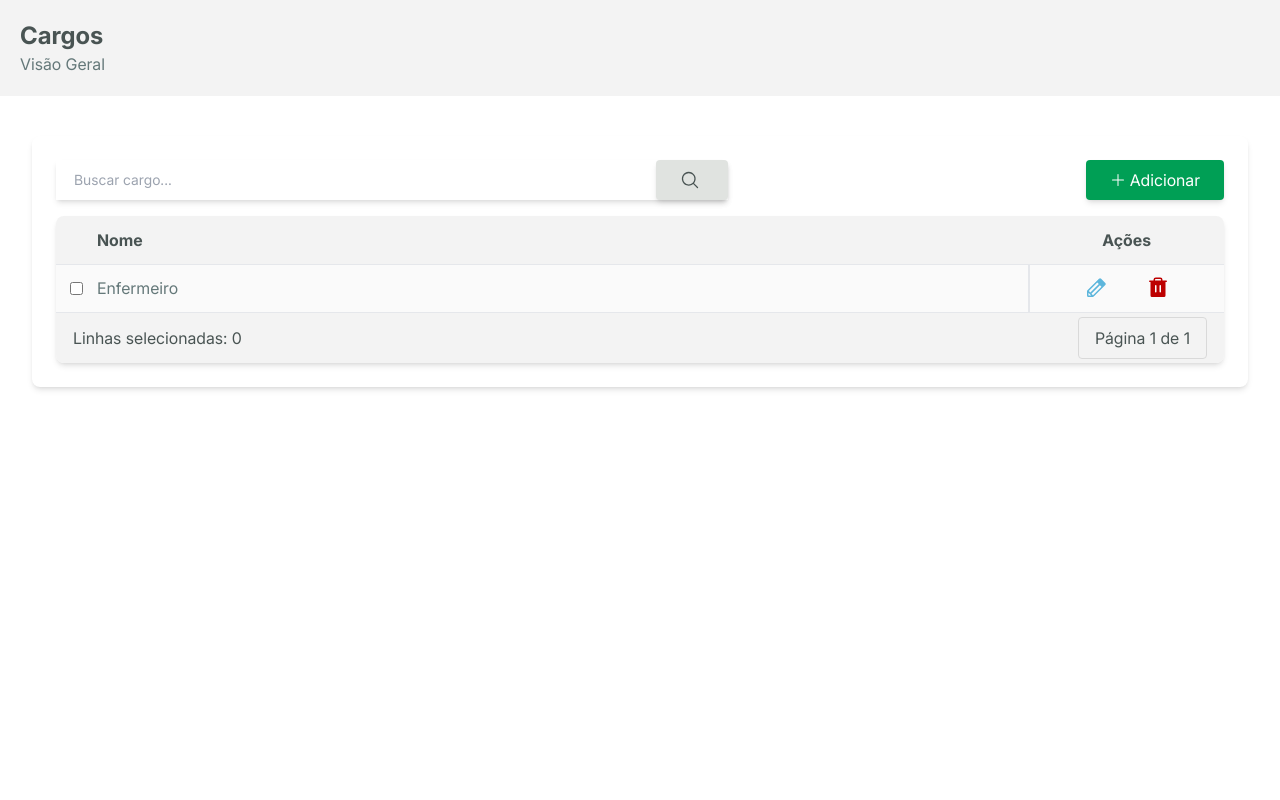
Test: páginas CRUD assistenciais › edits a listed position through its public form
Expected: the text "Enfermeiro" is shown, top-left (96, 264), bottom-right (1029, 312)
Click the button titled "Editar" at (1096, 288), box top-left (1084, 276), bottom-right (1108, 300)
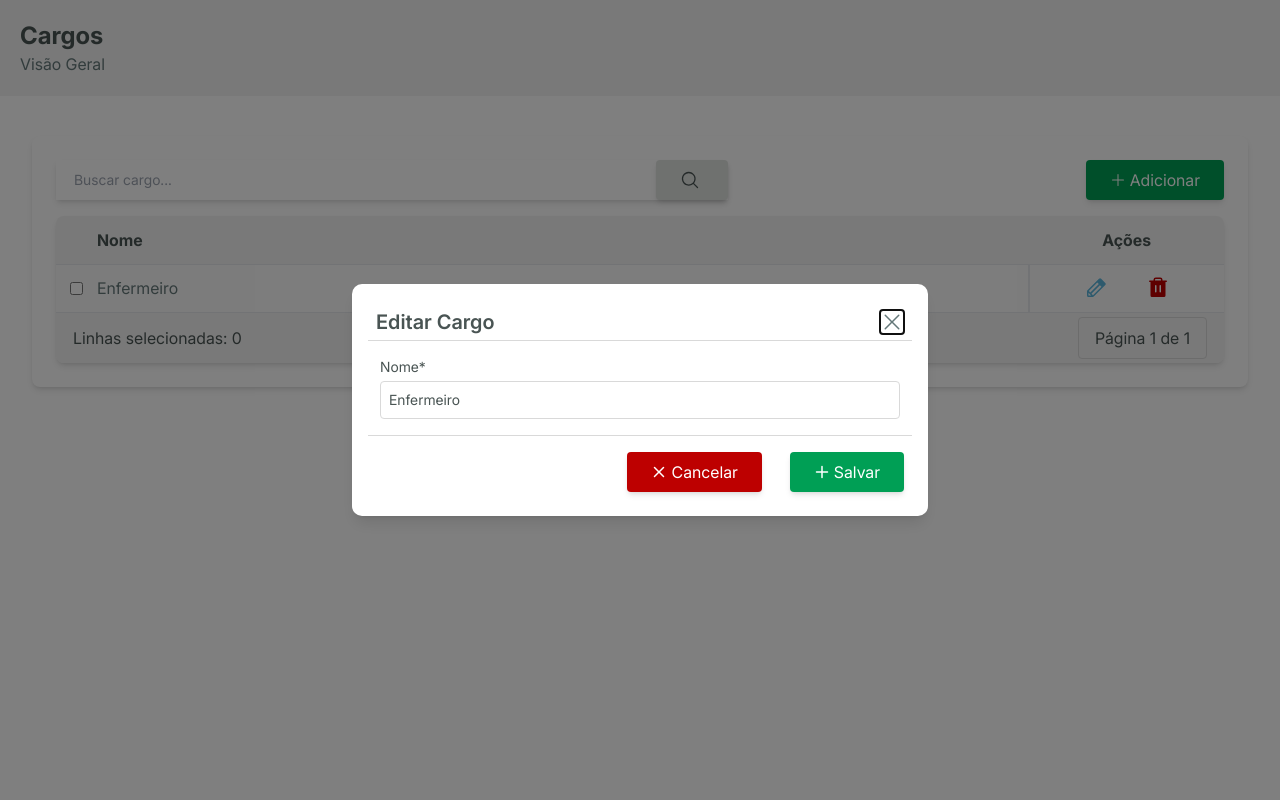
Replace the text in the field named "name" with "Enfermeira" at (640, 400), box top-left (380, 381), bottom-right (900, 419)
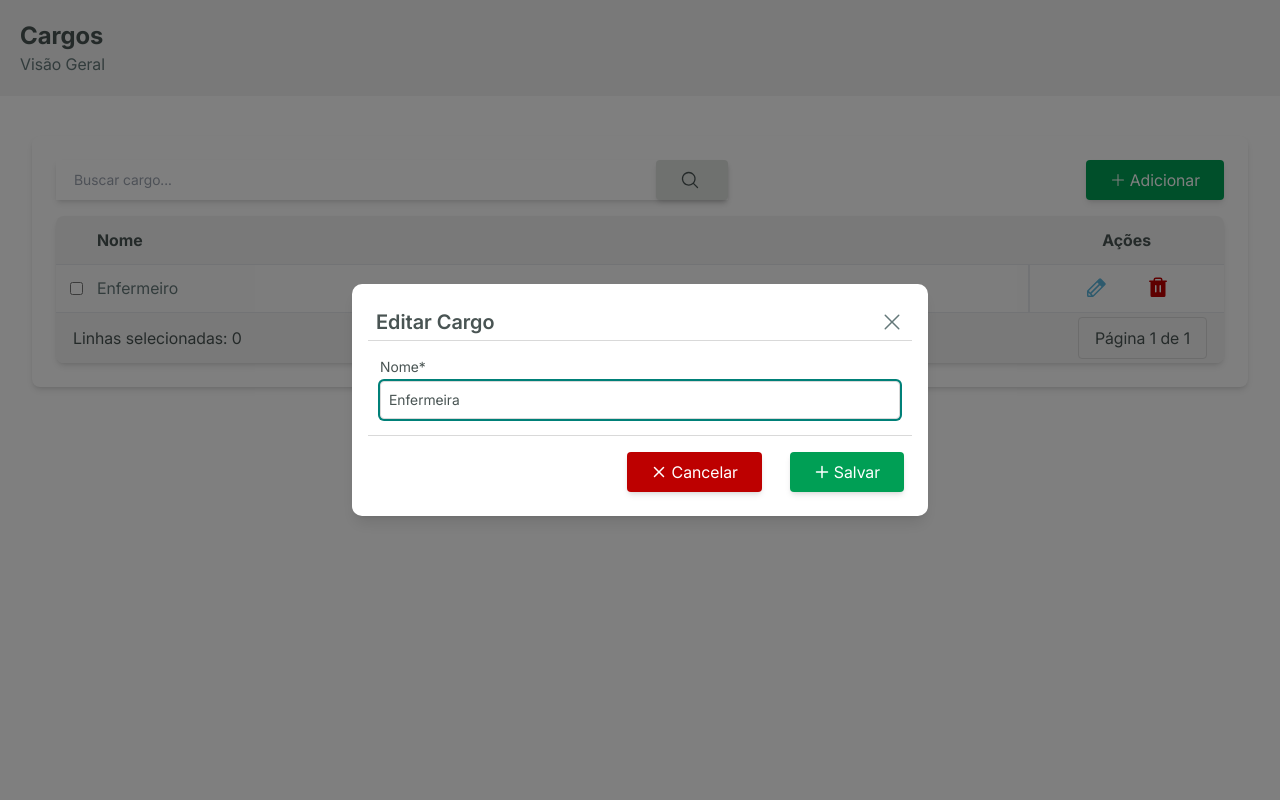
Click the button "Salvar" at (847, 472), box top-left (790, 452), bottom-right (904, 492)
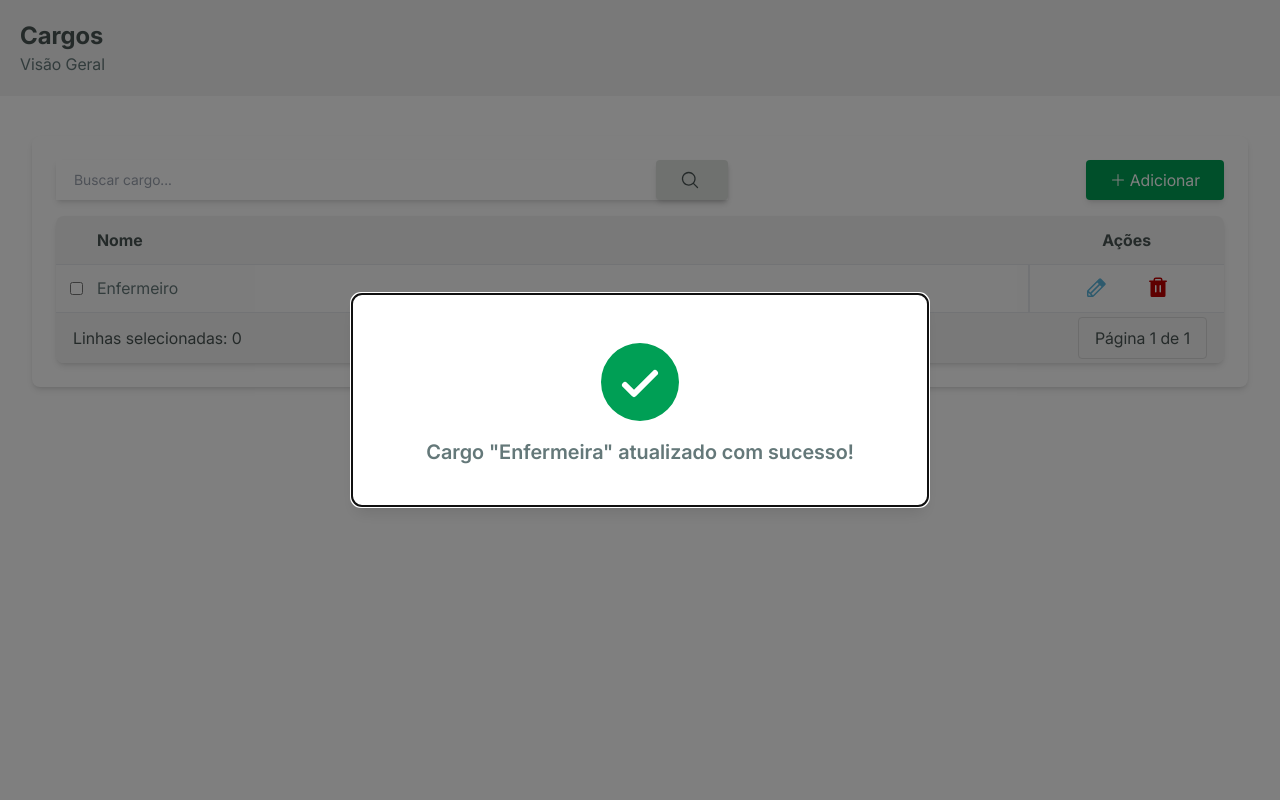
Now the text "Cargo \"Enfermeira\" atualizado com sucesso!" is shown, box top-left (426, 438), bottom-right (854, 466)
